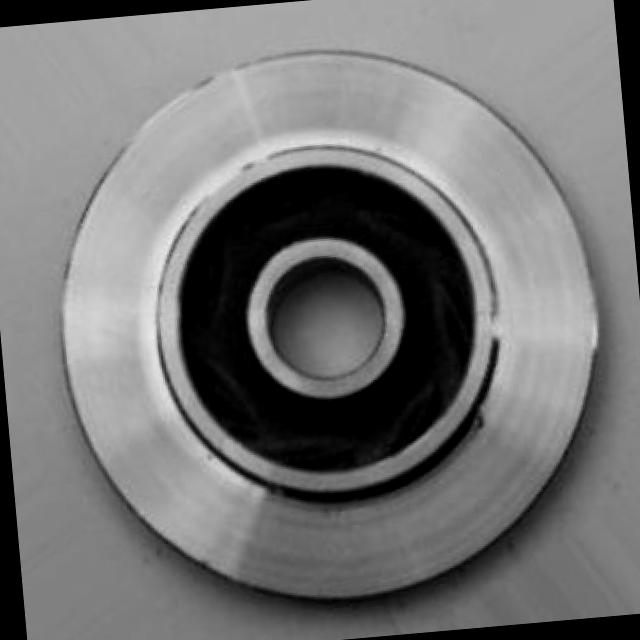Defect: (466, 409, 490, 435)
